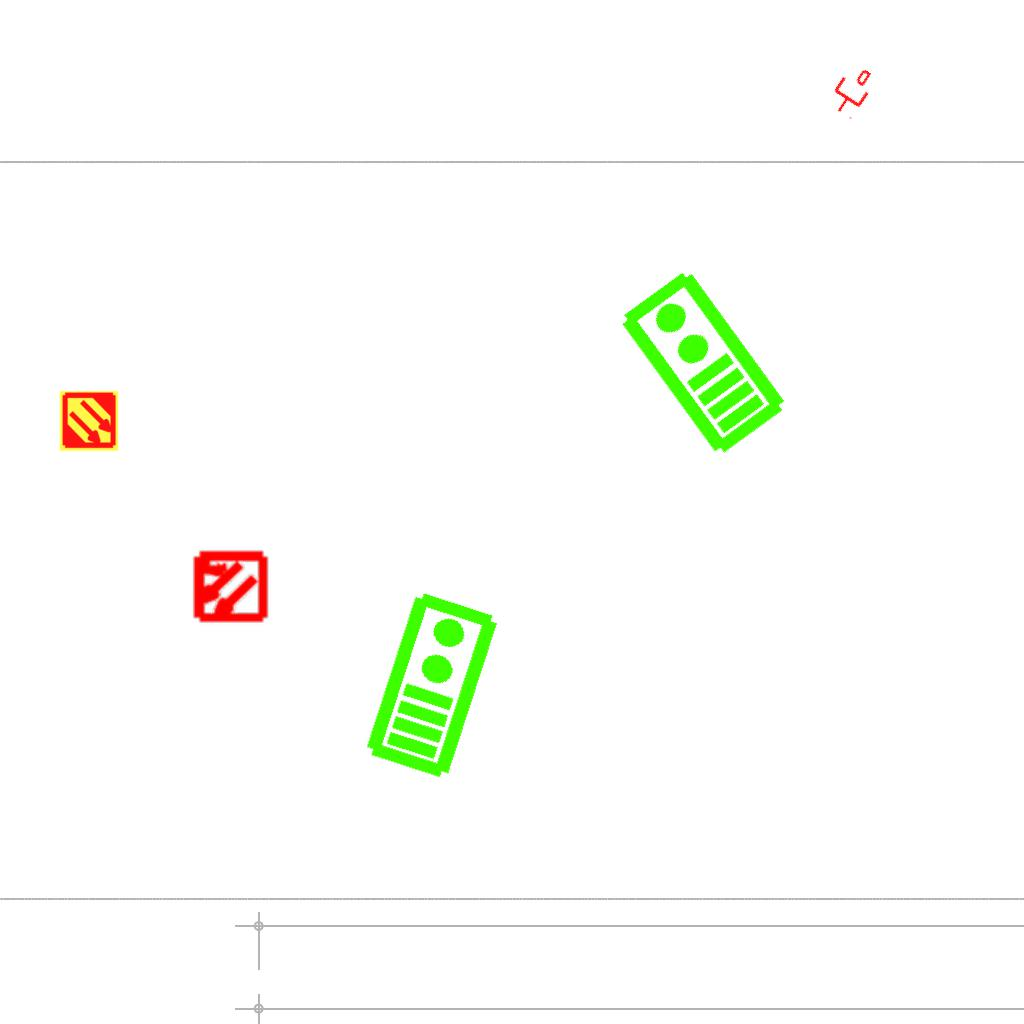ASR_Ansaugrauchmelder: (58, 390, 120, 452)
Datenanschluss_einfach: (824, 60, 880, 122)
Gegensprechanlage_mit_Video: (611, 263, 792, 463), (358, 585, 503, 783)
OT_Multisensormelder_(Kombination_RMO_WMD): (172, 530, 285, 643)
